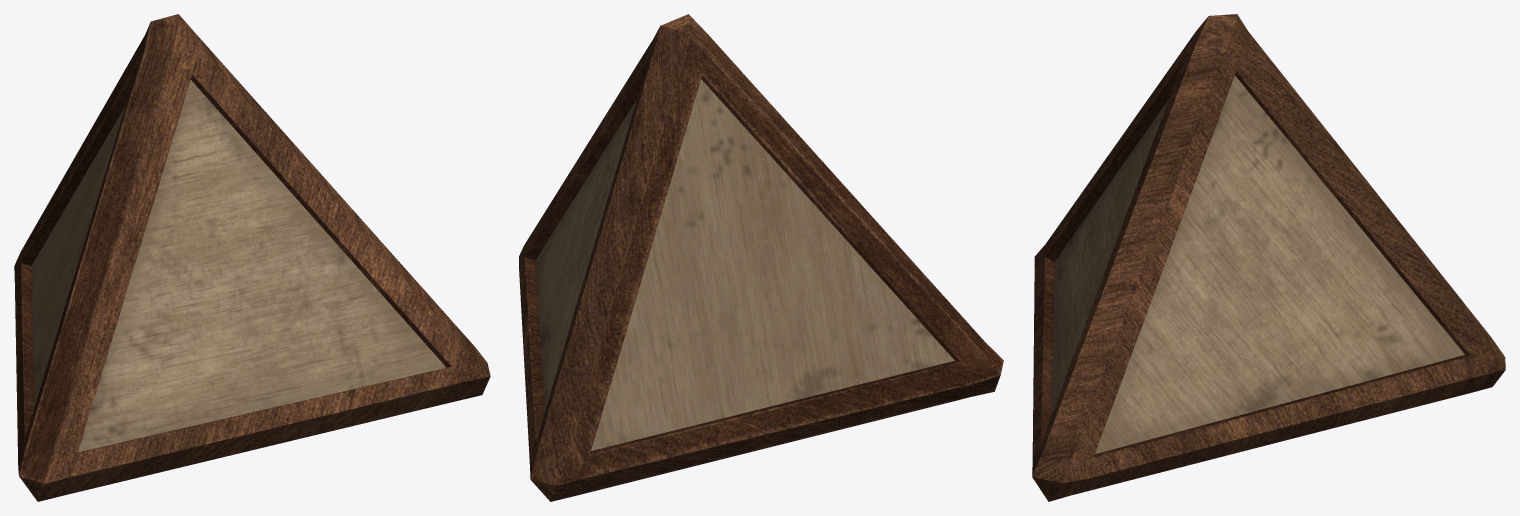
3 renders of one model, left to right at view 1: azimuth 30°, elevation 25°; view 2: azimuth 150°, elevation 25°; view 3: azimuth 270°, elevation 25°, orthographic. The views are drawn at different scales.
Parts seen in each view (by area): view 1: polySurface5; view 2: polySurface5; view 3: polySurface5.
Boxes of the visible parts, x1=… form: polySurface5: x1=14, y1=14, x2=490, y2=501; polySurface5: x1=519, y1=14, x2=1003, y2=501; polySurface5: x1=1032, y1=14, x2=1505, y2=501.
Size of the model in its own units: 0.0306 by 0.0231 by 0.0264.
Materials: 1 (1 with a texture image).
